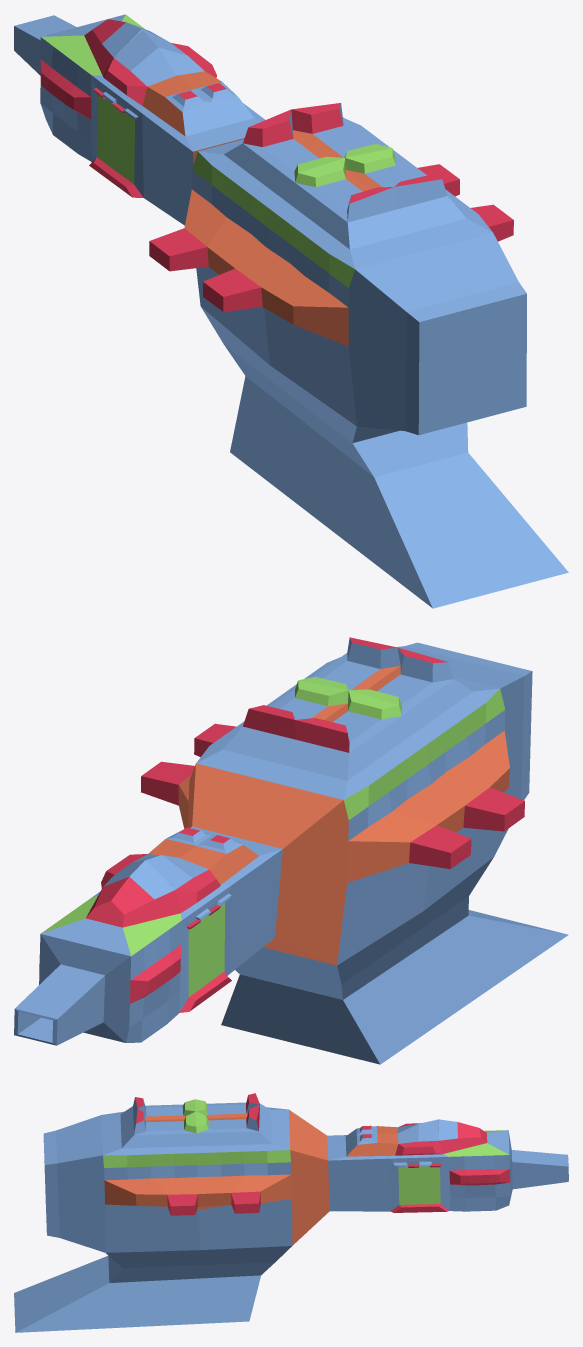
File: weapon.glb
The picture shows the model from 3 angles, top to bottom: view 1: azimuth 30°, elevation 25°; view 2: azimuth 150°, elevation 25°; view 3: azimuth 270°, elevation 25°; orthographic projection. The views are drawn at different scales.
Parts seen in each view (by area): view 1: Cube; view 2: Cube; view 3: Cube.
Part boxes in pixels (x1=…): Cube: x1=14, y1=14, x2=568, y2=608; Cube: x1=14, y1=637, x2=568, y2=1064; Cube: x1=14, y1=1093, x2=568, y2=1332.
Size of the model in its own units: 7.2 by 7.87 by 19.2.
